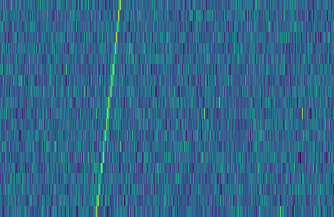signal: (89, 0, 124, 217)
